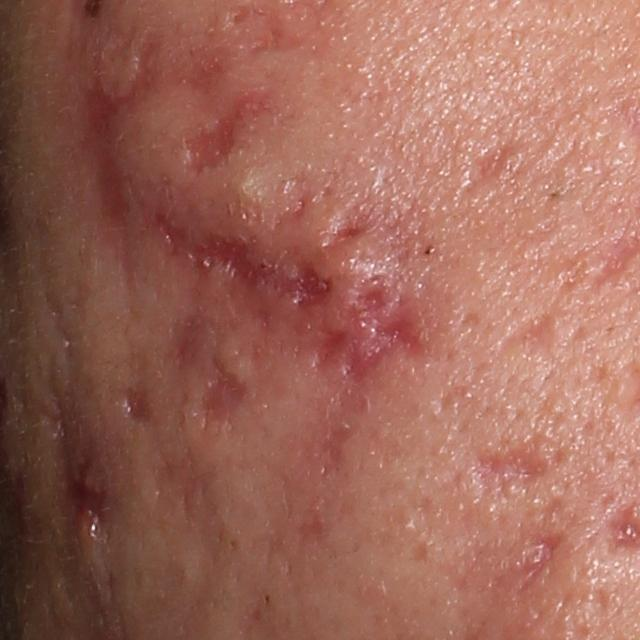atrophic_scar: (74, 33, 169, 290), (164, 262, 321, 378), (152, 208, 334, 304), (337, 278, 425, 389), (184, 87, 273, 178), (56, 424, 116, 537), (470, 433, 559, 492), (454, 139, 525, 206), (157, 441, 217, 516), (189, 356, 248, 431), (516, 528, 570, 598), (314, 422, 359, 469), (124, 382, 157, 428)
hypertrophic_scar: (108, 75, 348, 265)
